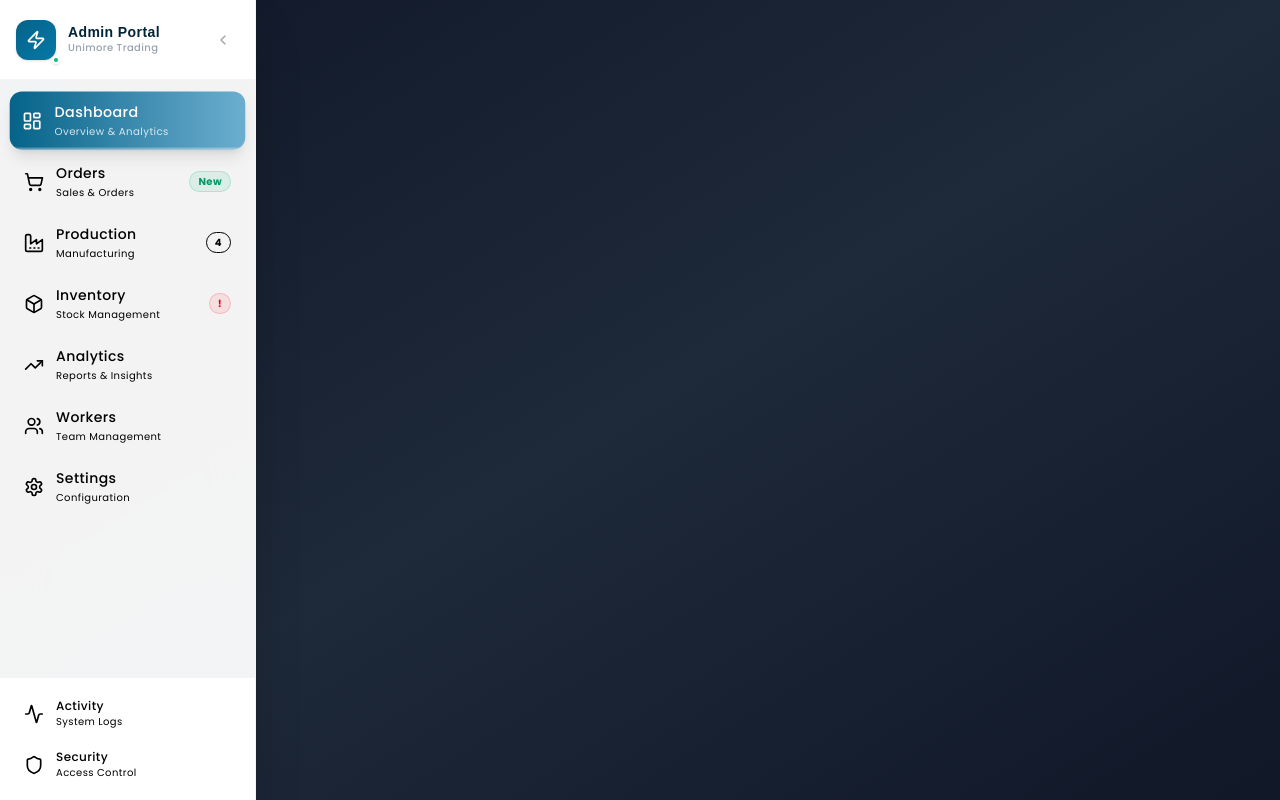
Scenario: Sidebar Component › Collapse/Expand Functionality › should toggle collapse state when collapse button is clicked
This screenshot has width=1280, height=800.
Click the button named "Collapse sidebar" at coordinates (223, 40), box [207,24,239,56]
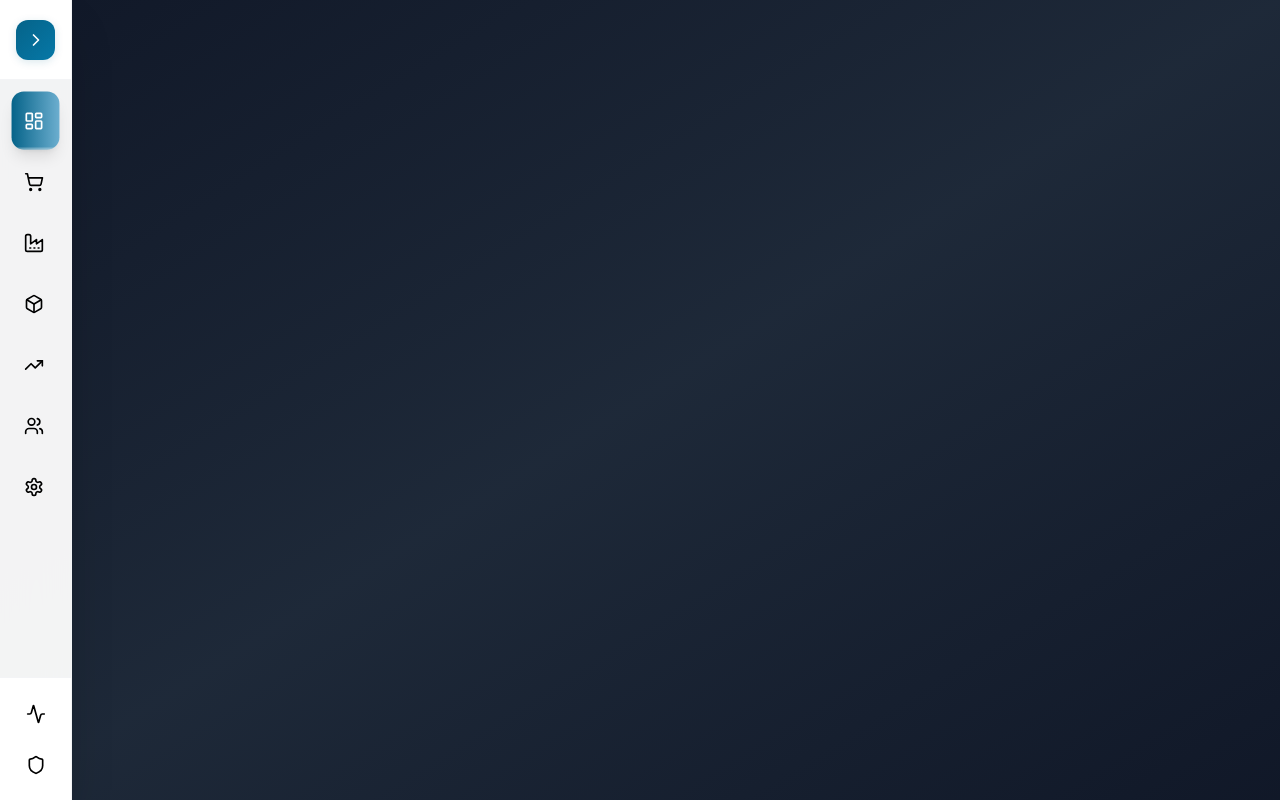
Now the button named "Expand sidebar" is shown, box [16,20,55,60]
